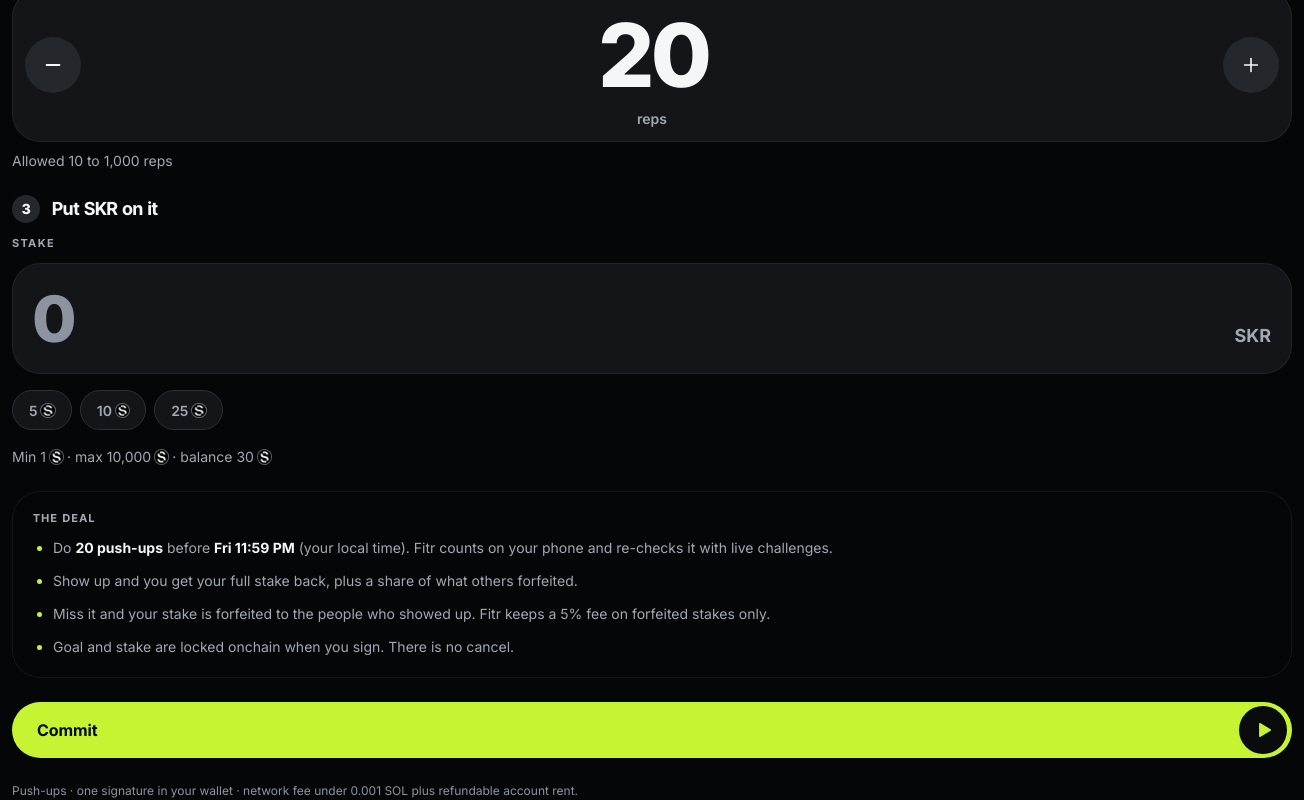
Test case: StakeForm › quick picks fill the amount; picks above the balance are disabled
(page scrolled)
Click the radio button labelled "25" at (188, 410), box left=154, top=390, right=223, bottom=430
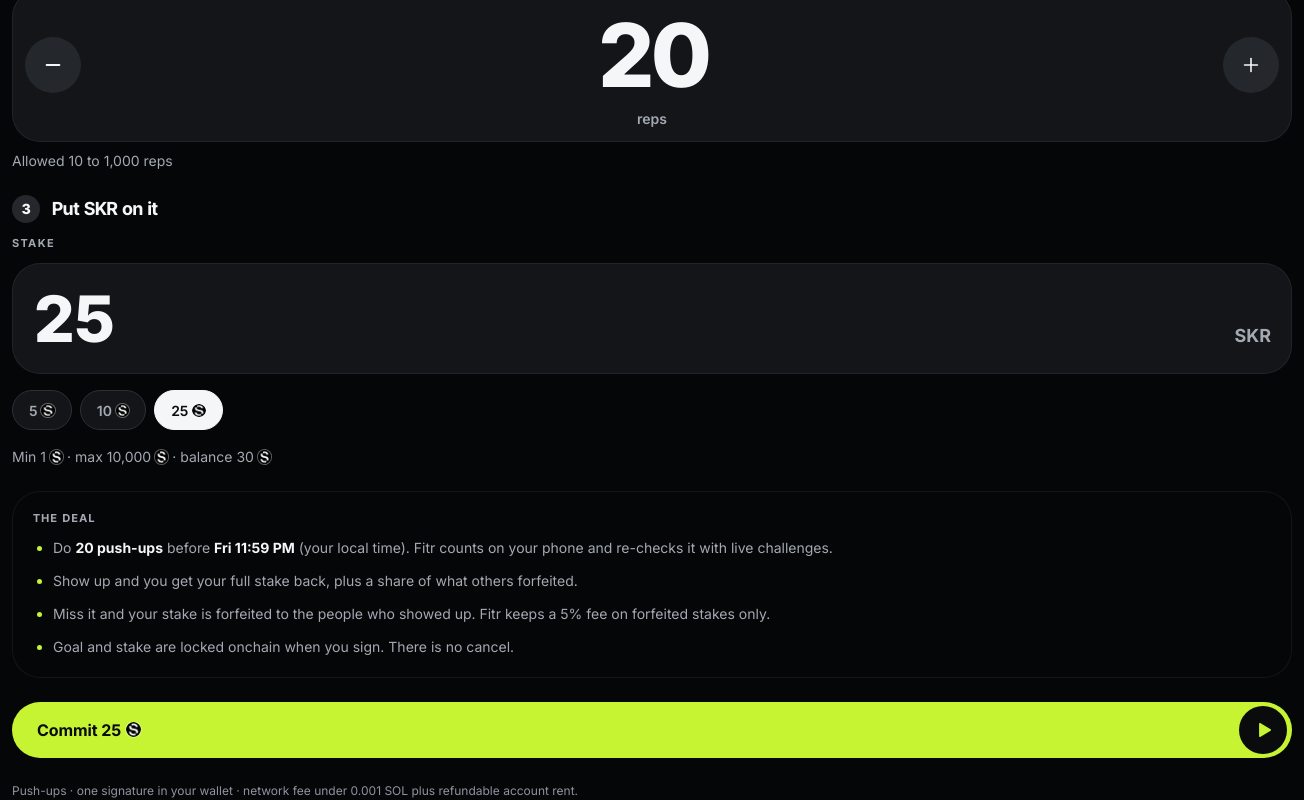
Expected: the field labelled "Stake" holds "25", left=33, top=280, right=1226, bottom=357
